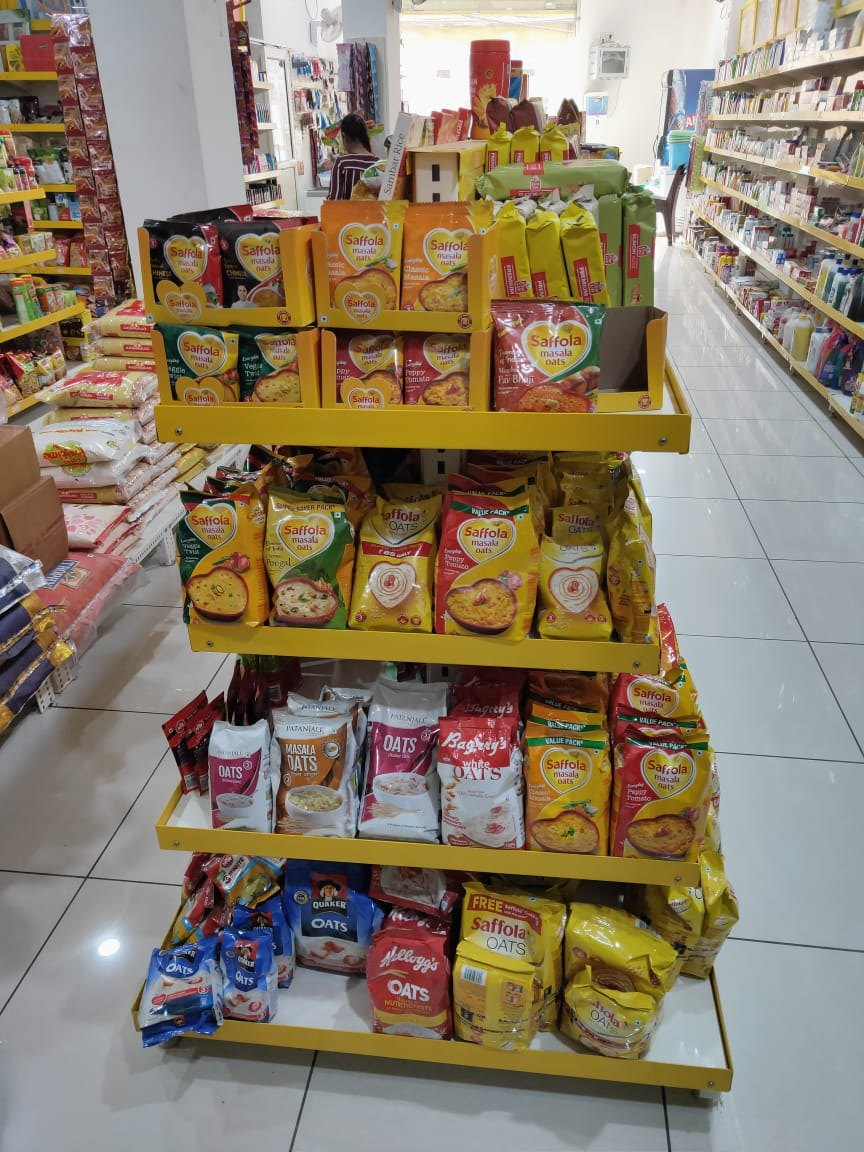saffola: (144, 194, 717, 899)
